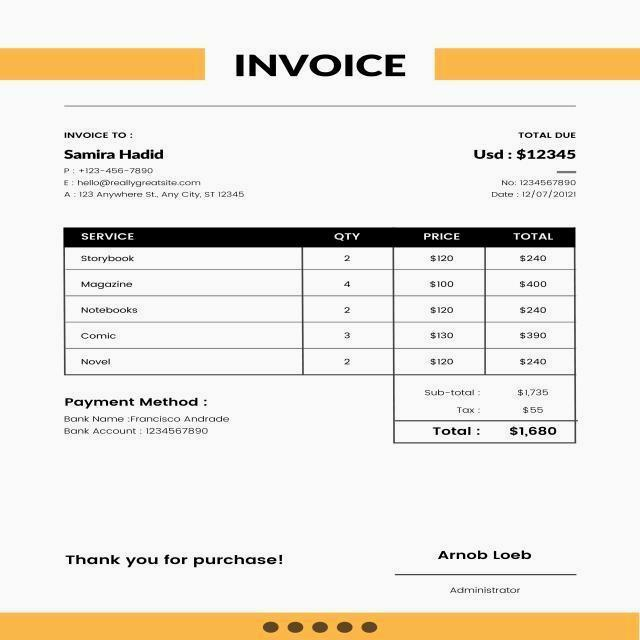paragraph: (55, 126, 253, 207), (389, 376, 578, 448), (470, 122, 579, 199), (61, 399, 240, 440), (55, 555, 295, 579), (225, 50, 410, 79)
table: (62, 226, 577, 372)
